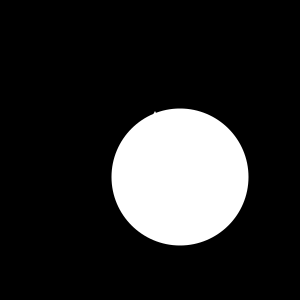rectangle: (112, 108, 248, 246)
triangle: (115, 111, 195, 191)
